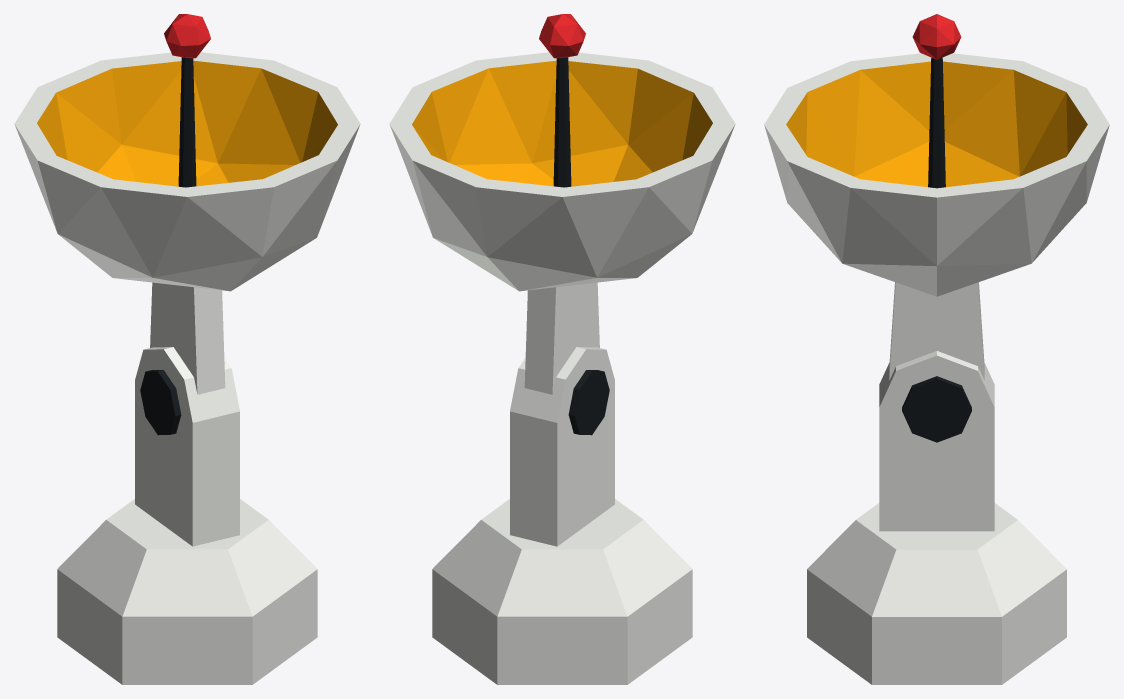
The model's file is antennaA.FBX.
3 renders of one model, left to right at view 1: azimuth 30°, elevation 25°; view 2: azimuth 150°, elevation 25°; view 3: azimuth 270°, elevation 25°, orthographic.
Parts seen in each view (by area): view 1: antennaA_head, antennaA_body; view 2: antennaA_head, antennaA_body; view 3: antennaA_head, antennaA_body.
Boxes of the visible parts, <box> form: antennaA_head: <box>14,14,360,435</box>; antennaA_body: <box>57,347,317,684</box>; antennaA_head: <box>389,14,735,435</box>; antennaA_body: <box>432,347,692,684</box>; antennaA_head: <box>764,14,1109,442</box>; antennaA_body: <box>807,351,1066,684</box>.
Size of the model in its own units: 7.61 by 15.12 by 7.61.
